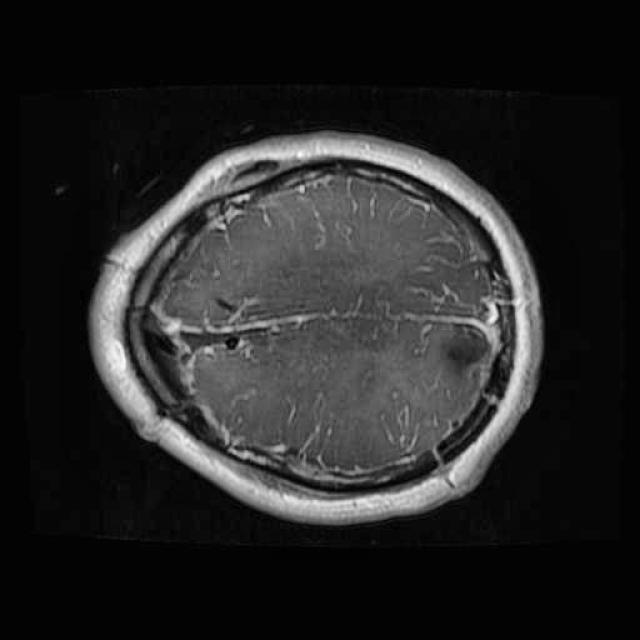Non-Tumor: (421, 306, 511, 396)
